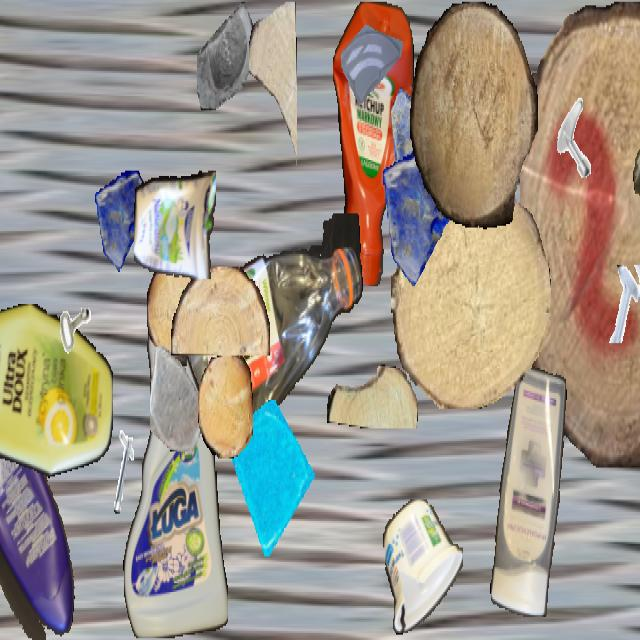glass: (231, 400, 319, 556), (381, 140, 465, 290), (341, 2, 403, 112), (197, 2, 257, 108), (150, 346, 208, 449), (391, 82, 447, 181), (95, 171, 151, 270)
metal: (39, 254, 99, 361), (99, 430, 155, 530), (551, 92, 603, 185), (604, 265, 640, 343)
plastic: (185, 213, 363, 423), (123, 301, 227, 638), (333, 2, 413, 286), (0, 386, 80, 638), (0, 304, 113, 482), (489, 366, 567, 615), (383, 500, 463, 634), (134, 164, 216, 278), (631, 43, 640, 231)
wood: (520, 1, 640, 468), (391, 194, 551, 407), (410, 2, 538, 229), (171, 266, 269, 356), (249, 2, 297, 172), (327, 364, 417, 428), (198, 356, 252, 458), (147, 260, 197, 366)
